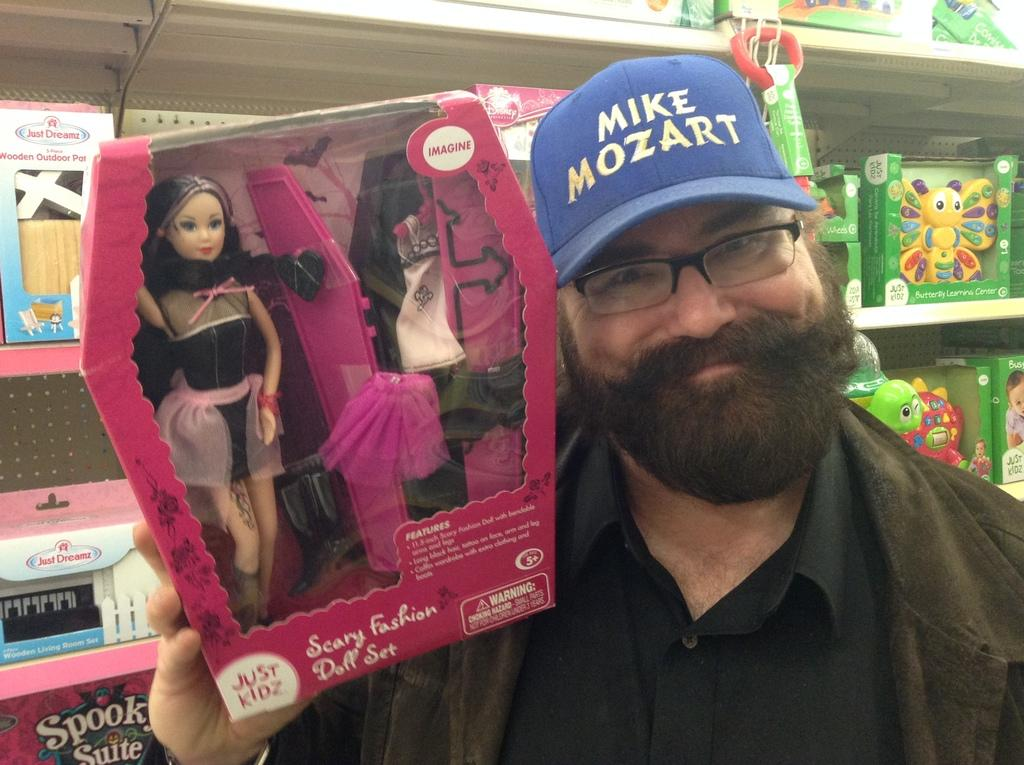Hat: (528, 47, 818, 290)
